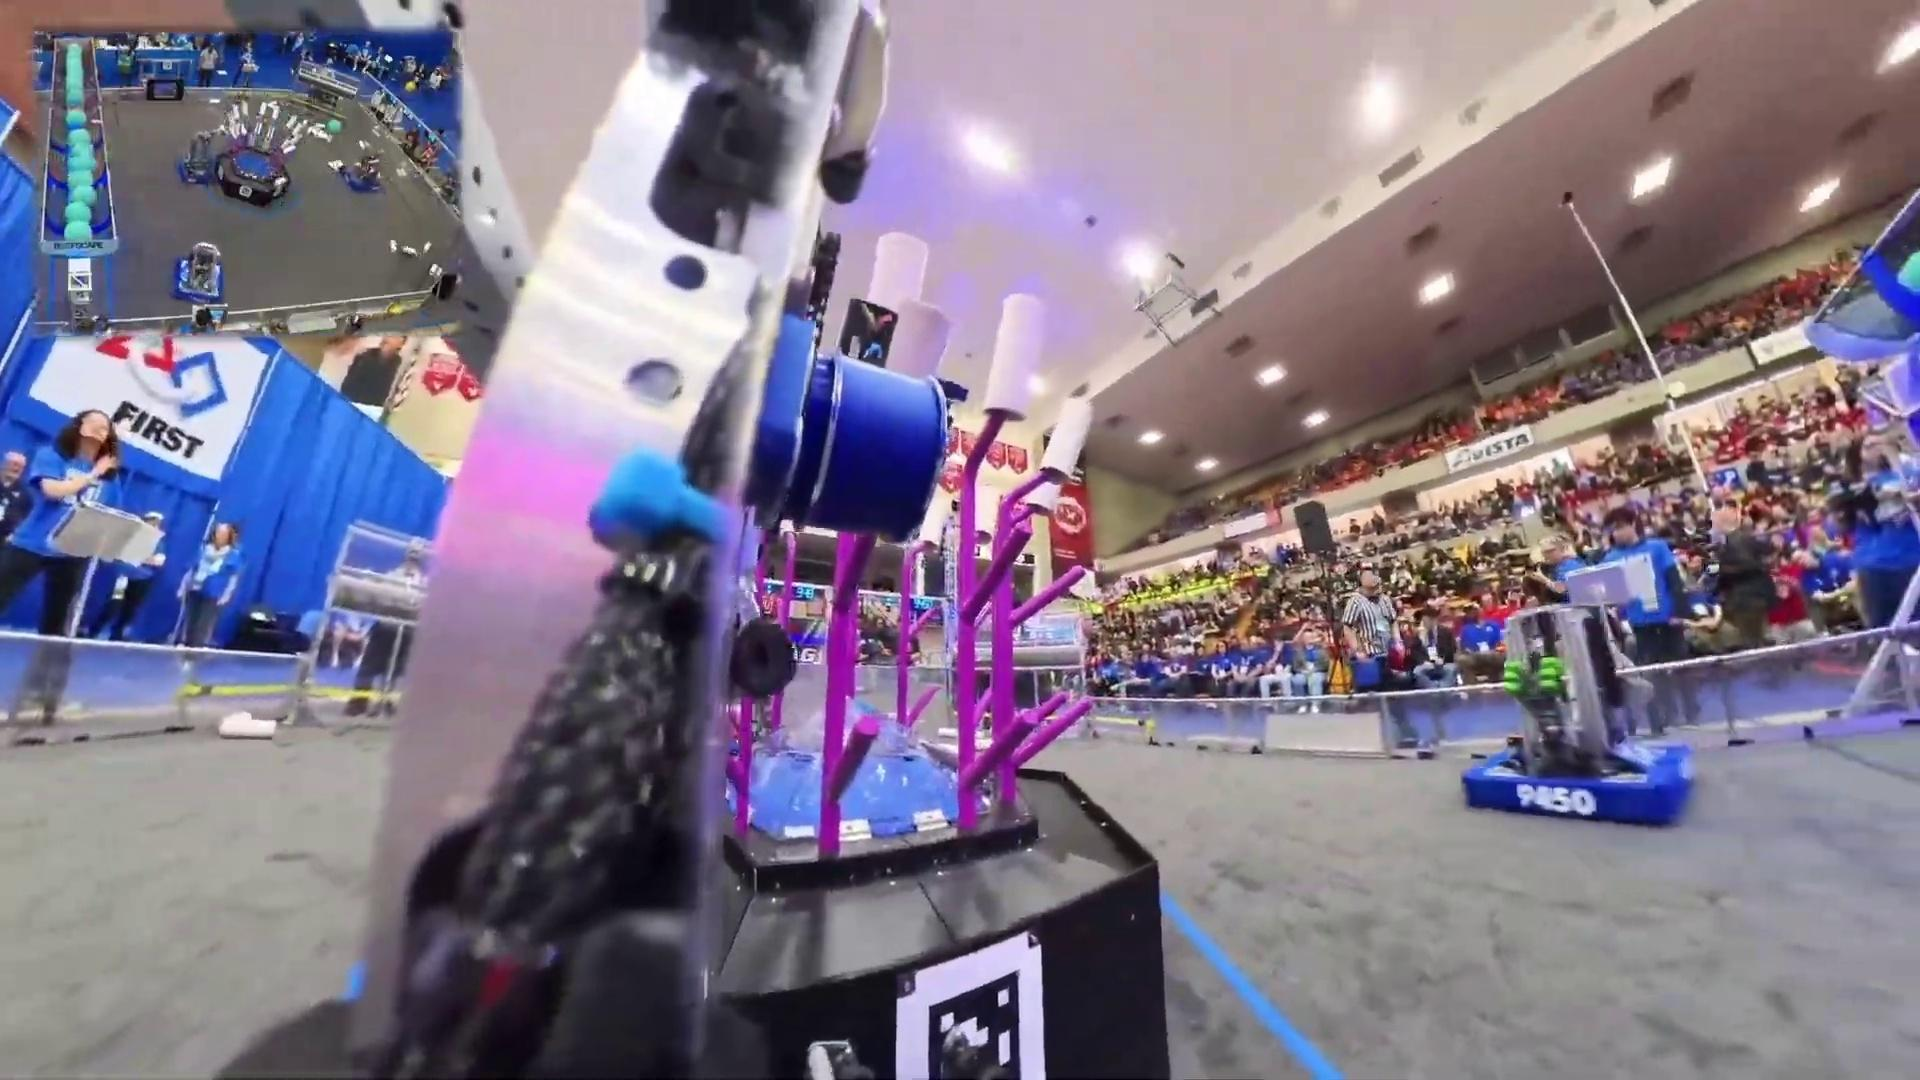robot: (1461, 596, 1695, 825), (166, 240, 229, 306), (173, 128, 216, 189), (338, 148, 382, 194)
